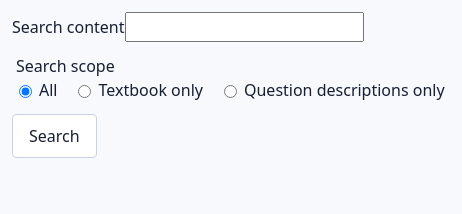
Scenario: ReaderSearch › drops stale results and exposes loading and empty states
Type "first" into the field labelled "Search content". click: {"x": 244, "y": 27}
box: [124,12,364,42]
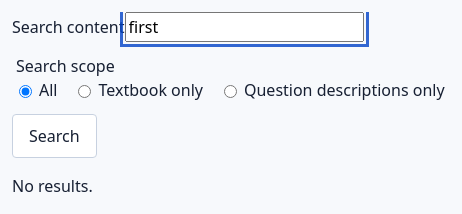
Click the button "Search". click: {"x": 54, "y": 136}
box: [12,114,97,158]
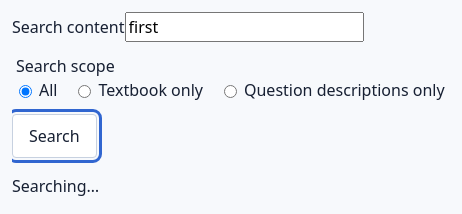
Now the message "Searching…" is shown, box [12,175,99,197]
Replace the text in the field labelled "Search content" with "second". click: {"x": 244, "y": 27}
box: [124,12,364,42]
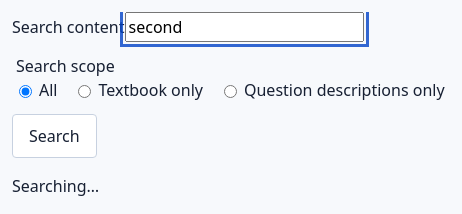
Click the button "Search". click: {"x": 54, "y": 136}
box: [12,114,97,158]
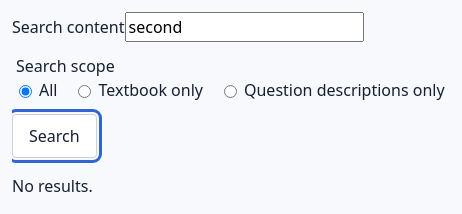
Now the text "No results." is shown, box [12,175,93,197]
